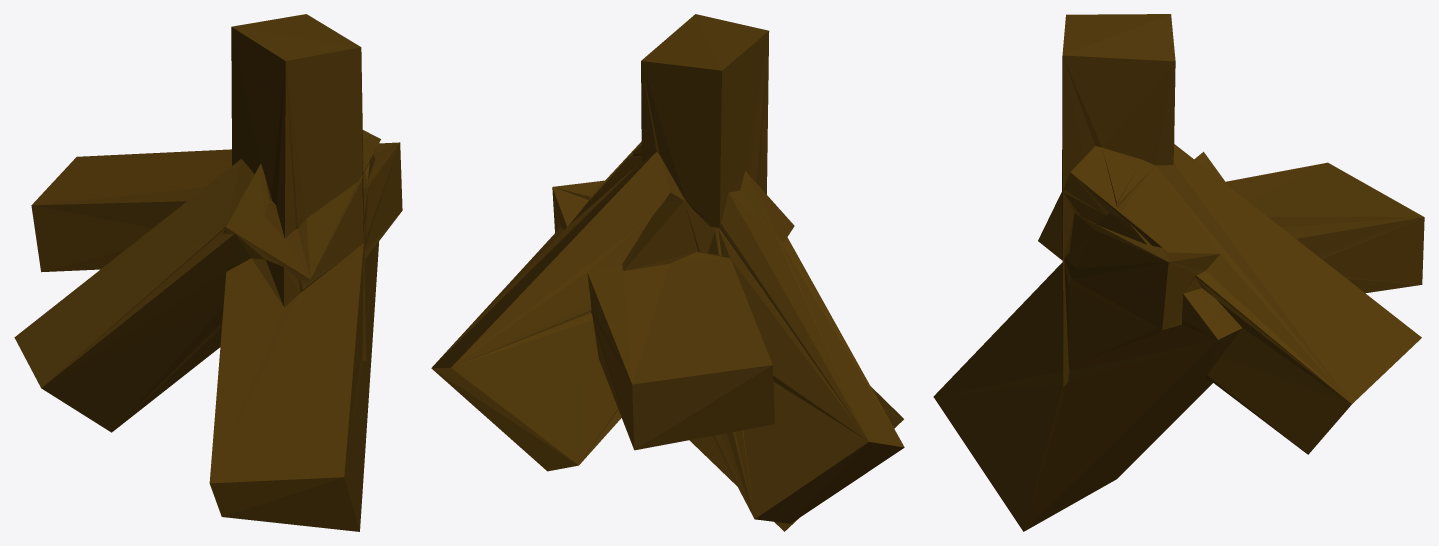
3 views of the same model, side by side, from view 1: azimuth 30°, elevation 25°; view 2: azimuth 150°, elevation 25°; view 3: azimuth 270°, elevation 25° (orthographic). The views are drawn at different scales.
Visible parts, largest first — view 1: 203_Cube.841; view 2: 203_Cube.841; view 3: 203_Cube.841.
Boxes of the visible parts, box(x1,y1,x2,y2) form: 203_Cube.841: box(14, 14, 402, 531); 203_Cube.841: box(431, 14, 904, 531); 203_Cube.841: box(933, 14, 1424, 531).
Size of the model in its own units: 15.24 by 17.83 by 16.2.
